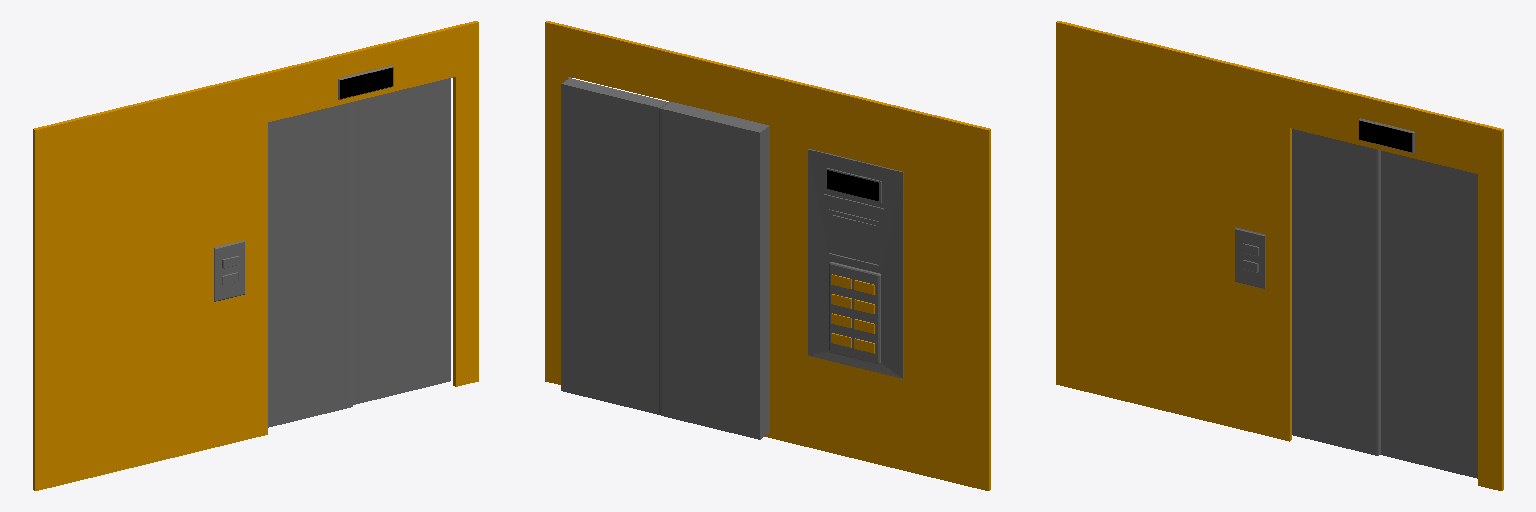
The robot description file, URDF, robot "elevator":
<?xml version="1.0"?>
<robot name="elevator">

  <!-- =========================
       Static elevator body
       ========================= -->
  <link name="cabin_link">
    <visual>
      <origin xyz="0 0 0" rpy="0 0 0"/>
      <geometry>
        <mesh filename="static_elevator.dae" scale="1 1 1"/>
      </geometry>
    </visual>

    <collision>
      <origin xyz="0 0 0" rpy="0 0 0"/>
      <geometry>
        <box size="4.2356 0.2952 3.2904"/>
      </geometry>
    </collision>

    <inertial>
      <origin xyz="0 0 0" rpy="0 0 0"/>
      <mass value="50.0"/>
      <inertia ixx="10" ixy="0" ixz="0" iyy="10" iyz="0" izz="10"/>
    </inertial>
  </link>

  <!-- =========================
       Door2 (moving)
       ========================= -->
  <link name="door2_link">
    <visual>
      <origin xyz="0 0 0" rpy="0 0 0"/>
      <geometry>
        <mesh filename="door2.dae" scale="1 1 1"/>
      </geometry>
    </visual>

    <collision>
      <origin xyz="0 0 0" rpy="0 0 0"/>
      <geometry>
        <box size="0.9537 0.1362 2.7992"/>
      </geometry>
    </collision>

    <inertial>
      <origin xyz="0 0 0" rpy="0 0 0"/>
      <mass value="5.0"/>
      <inertia ixx="0.5" ixy="0" ixz="0" iyy="0.5" iyz="0" izz="0.5"/>
    </inertial>
  </link>

  <joint name="door2_joint" type="prismatic">
    <parent link="cabin_link"/>
    <child link="door2_link"/>
    <origin xyz="0 0 0" rpy="0 0 0"/>

    <!-- slides along -X using negative limit -->
    <axis xyz="1 0 0"/>

    <limit lower="-0.5" upper="0.0" effort="200" velocity="0.5"/>
  </joint>

</robot>

--- Render facts (derived) ---
Views: 3 orthographic renders of the robot side by side, from view 1: azimuth 30°, elevation 25°; view 2: azimuth 150°, elevation 25°; view 3: azimuth 330°, elevation 25°.
Model elevator with 2 links and 1 joints (1 prismatic), rooted at cabin_link, posed every joint at zero.
Visible links, largest first — view 1: cabin_link, door2_link; view 2: cabin_link, door2_link; view 3: cabin_link, door2_link.
Link boxes in pixels (x1,y1,x2,y2): cabin_link: (33,21,478,490); door2_link: (353,78,450,404); cabin_link: (545,21,990,490); door2_link: (561,78,667,414); cabin_link: (1056,21,1503,490); door2_link: (1380,151,1477,478).
Bounding box of the posed robot: 4.24 × 0.2952 × 3.29 m (x, y, z).
Meshes: 2 distinct files referenced, 2 mesh visuals loaded (2 Collada DAE).